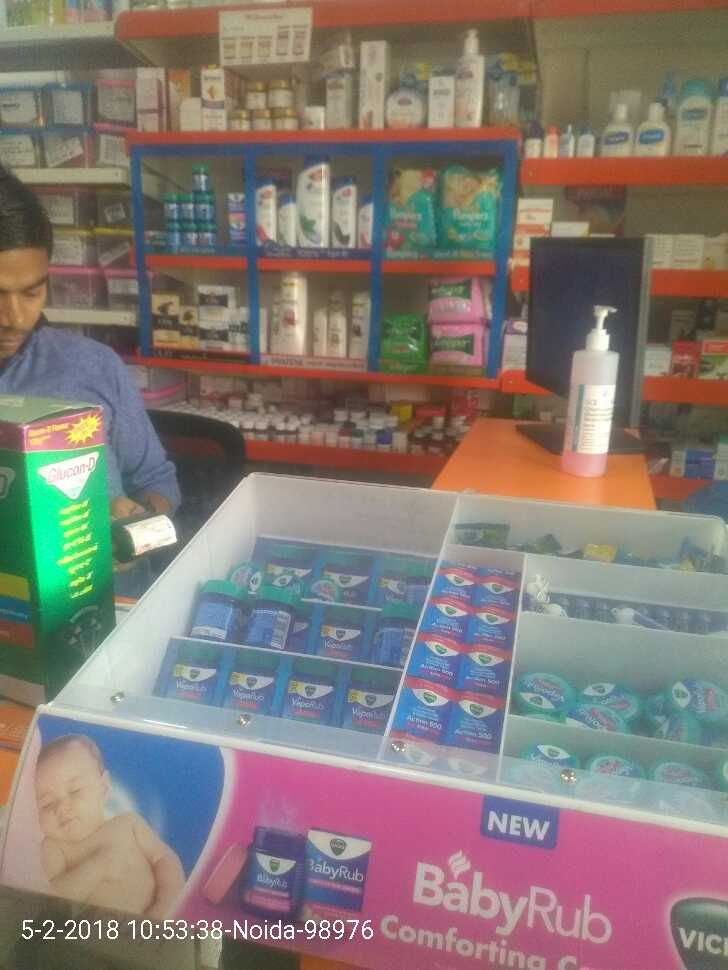vicks: (158, 507, 385, 735), (520, 649, 728, 802), (391, 535, 515, 755), (524, 575, 713, 637), (152, 159, 247, 252)
